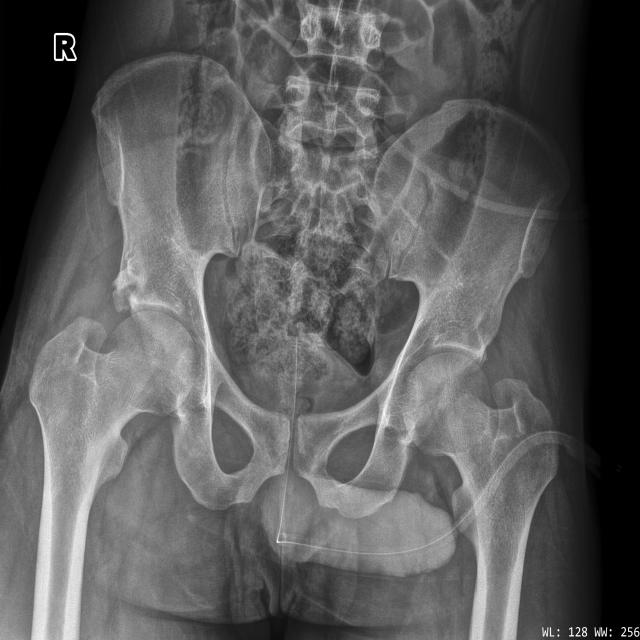normal-left: (402, 353, 559, 640)
normal-right: (29, 311, 195, 640)
